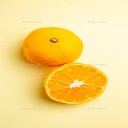orange: (17, 26, 85, 69)
